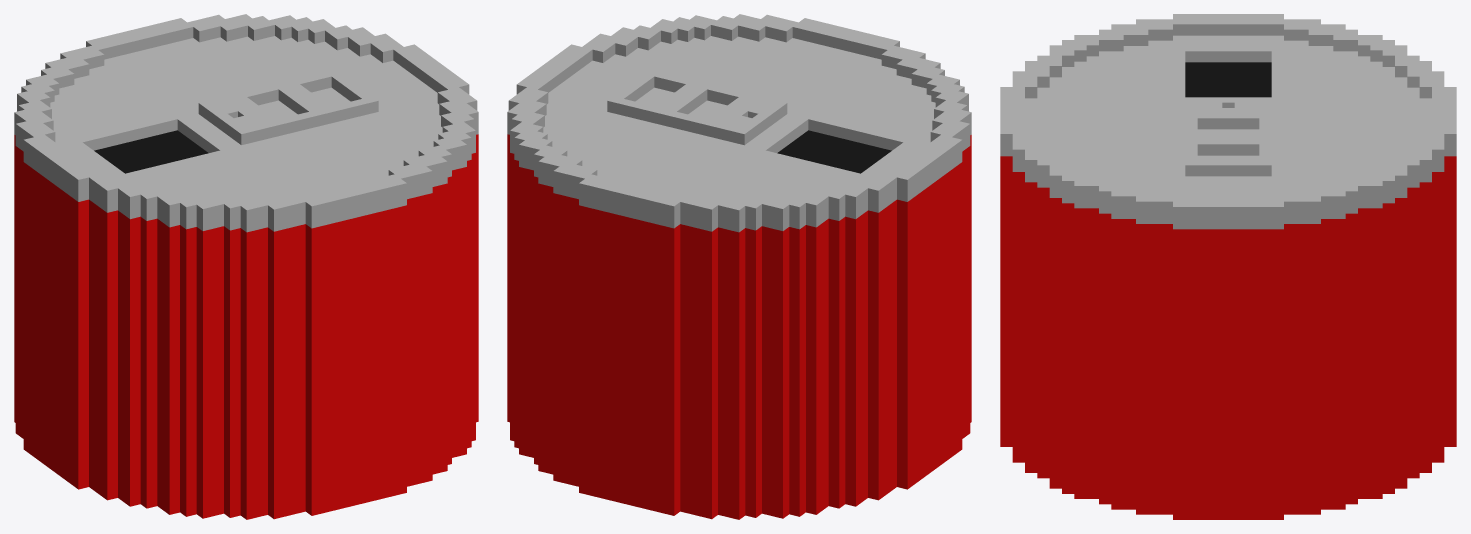
File: can_top.obj
3 renders of one model, left to right at view 1: azimuth 30°, elevation 25°; view 2: azimuth 150°, elevation 25°; view 3: azimuth 270°, elevation 25°, orthographic.
Bounding box in the file's own units: 37 × 28 × 37.
1 material, 1 textured.
